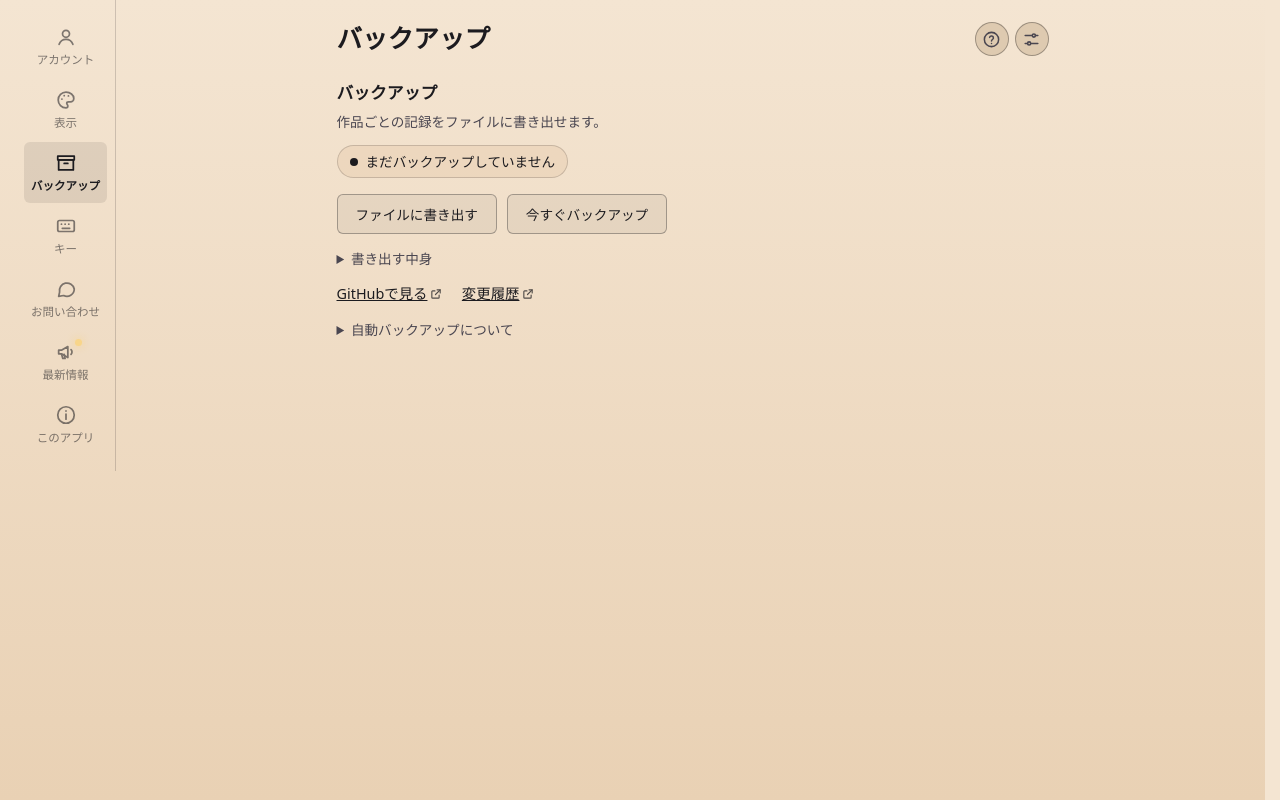
Test: Settings backup block › says nothing was written when the content did not change
Click the button "今すぐバックアップ" at point(587, 214), box [507,194,667,234]
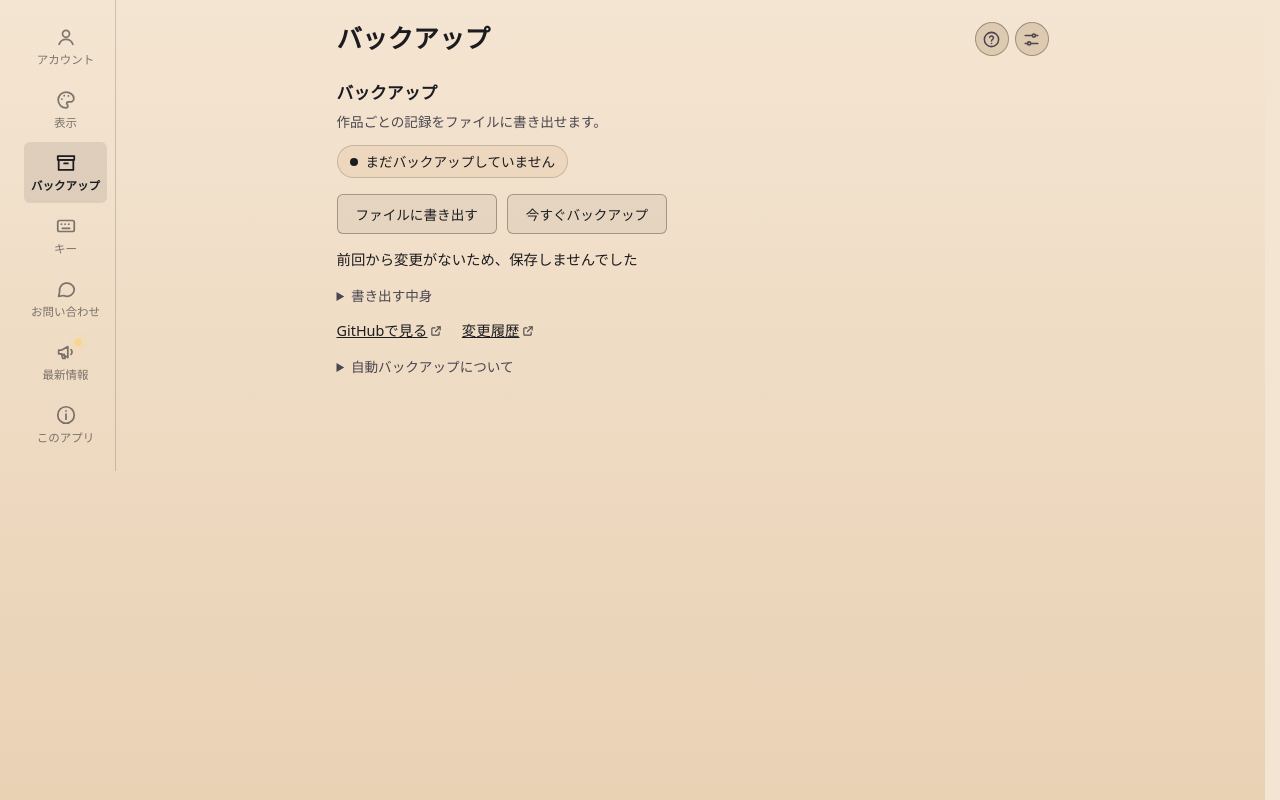
Now the text "前回から変更がないため、保存しませんでした" is shown, box [336,250,638,269]
